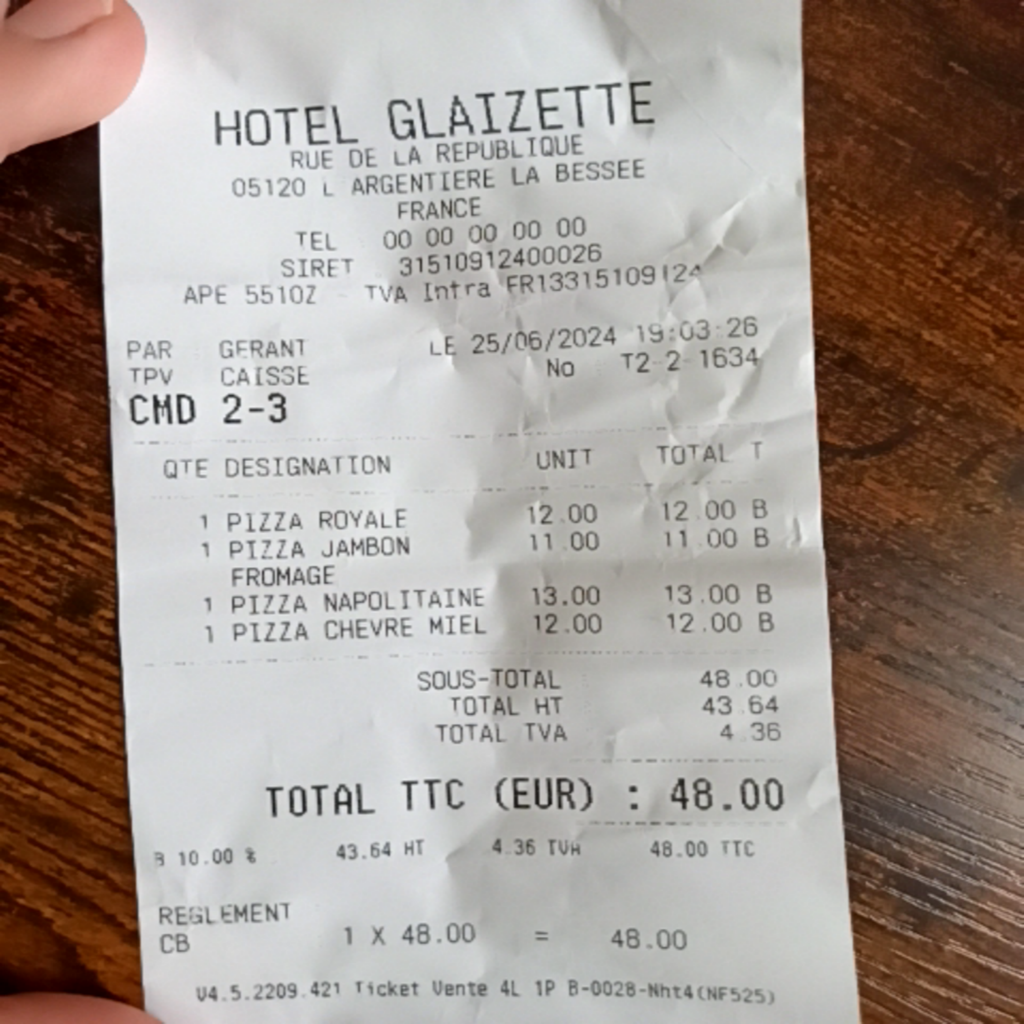recipt: (97, 0, 864, 1018)
